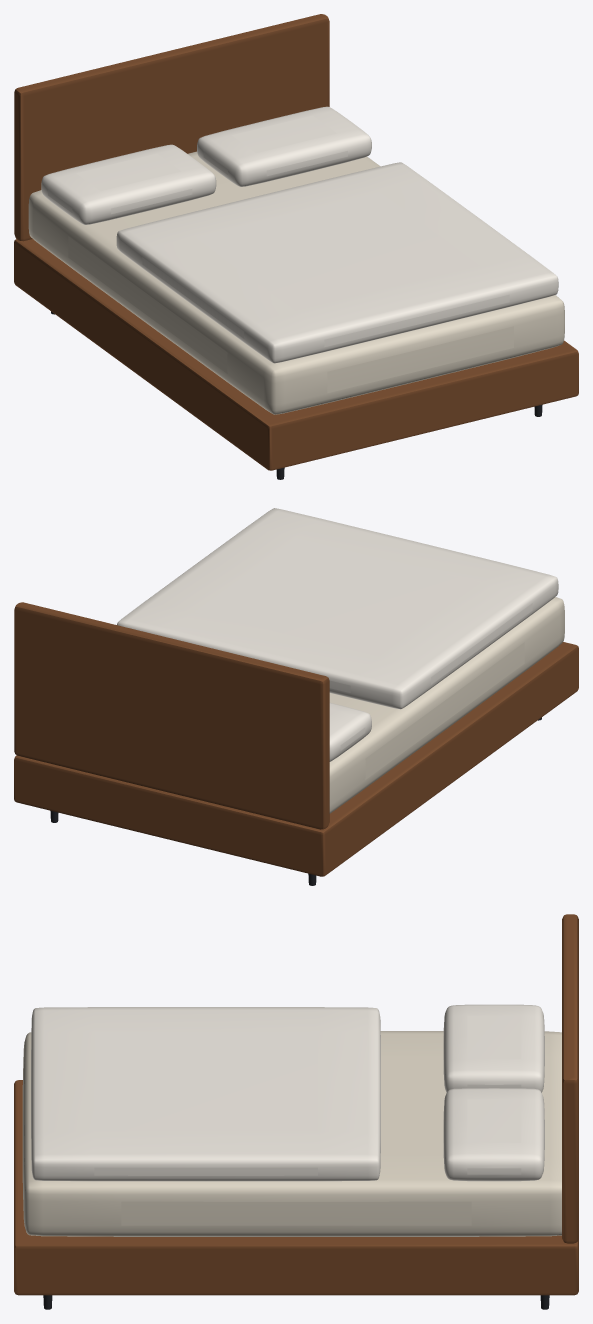
File: bed-140.glb
3 views of the same model, one above another, from view 1: azimuth 30°, elevation 25°; view 2: azimuth 150°, elevation 25°; view 3: azimuth 270°, elevation 25° (orthographic). The views are drawn at different scales.
Parts seen in each view (by area): view 1: bed-140; view 2: bed-140; view 3: bed-140.
Boxes of the visible parts, x1=… form: bed-140: x1=14, y1=14, x2=578, y2=479; bed-140: x1=14, y1=508, x2=578, y2=885; bed-140: x1=14, y1=914, x2=578, y2=1309.
Size of the model in its own units: 1.4 by 0.95 by 2.
